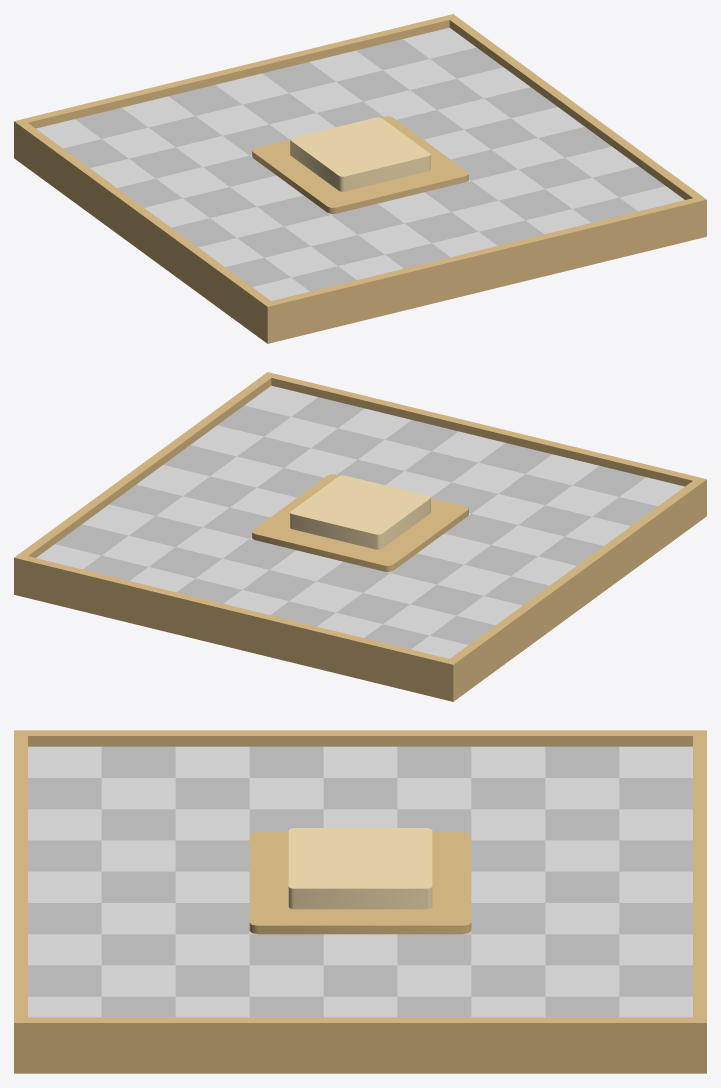
File: Floor.fbx
The picture shows the model from 3 angles, top to bottom: view 1: azimuth 30°, elevation 25°; view 2: azimuth 150°, elevation 25°; view 3: azimuth 270°, elevation 25°; orthographic projection. The views are drawn at different scales.
Parts seen in each view (by area): view 1: Cube.009, Cube.001; view 2: Cube.009, Cube.001; view 3: Cube.009, Cube.001.
Part boxes in pixels (box(x1,y1,x2,y2)): Cube.009: box(14, 14, 706, 343); Cube.001: box(252, 116, 468, 213); Cube.009: box(14, 372, 706, 701); Cube.001: box(252, 474, 468, 571); Cube.009: box(14, 730, 706, 1073); Cube.001: box(249, 828, 471, 934).
Size of the model in its own units: 1875 by 206 by 1875.
